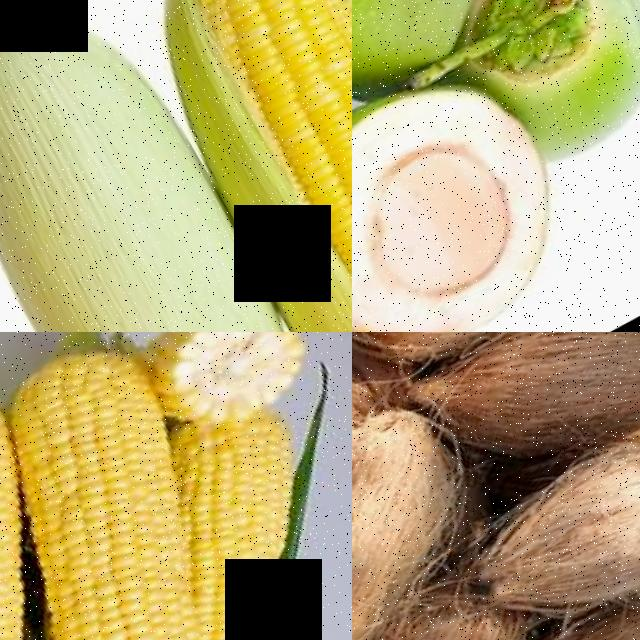coconut: (352, 56, 580, 332), (435, 398, 640, 640), (352, 395, 505, 640), (437, 0, 640, 180), (352, 0, 524, 124), (352, 332, 640, 406)
corn: (131, 0, 352, 332), (0, 332, 202, 555), (125, 408, 338, 595), (0, 485, 221, 640), (112, 559, 352, 640)
